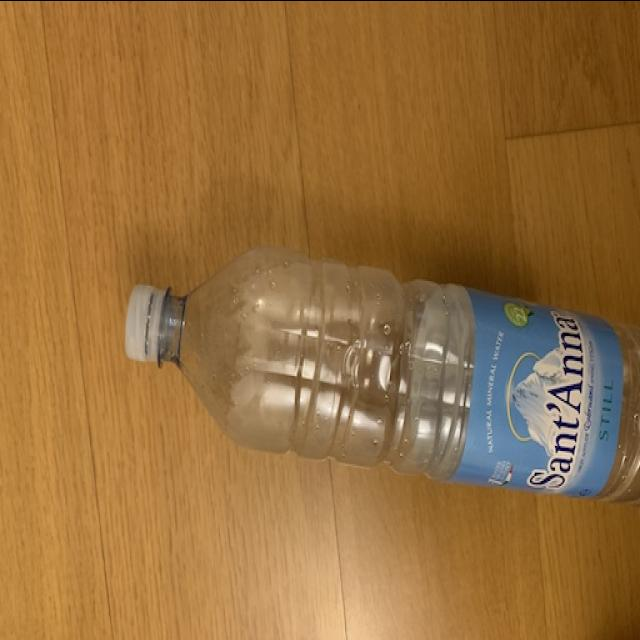PET: (120, 245, 635, 515)
